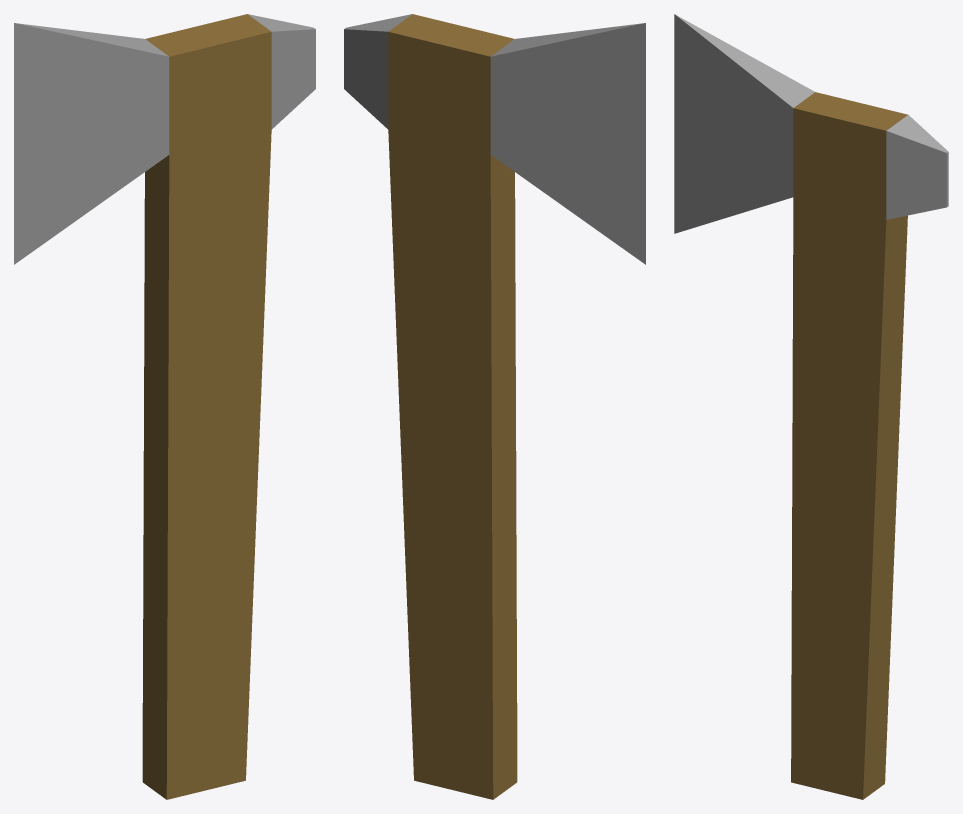
File: Axe.fbx
The picture shows the model from 3 angles, left to right: view 1: azimuth 30°, elevation 25°; view 2: azimuth 150°, elevation 25°; view 3: azimuth 330°, elevation 25°; orthographic projection. The views are drawn at different scales.
Parts seen in each view (by area): view 1: Axe; view 2: Axe; view 3: Axe.
Part boxes in pixels (box(x1,y1,x2,y2)): Axe: box(14, 14, 315, 799); Axe: box(344, 14, 645, 799); Axe: box(674, 14, 948, 799).
Size of the model in its own units: 44.63 by 114 by 6.23.
